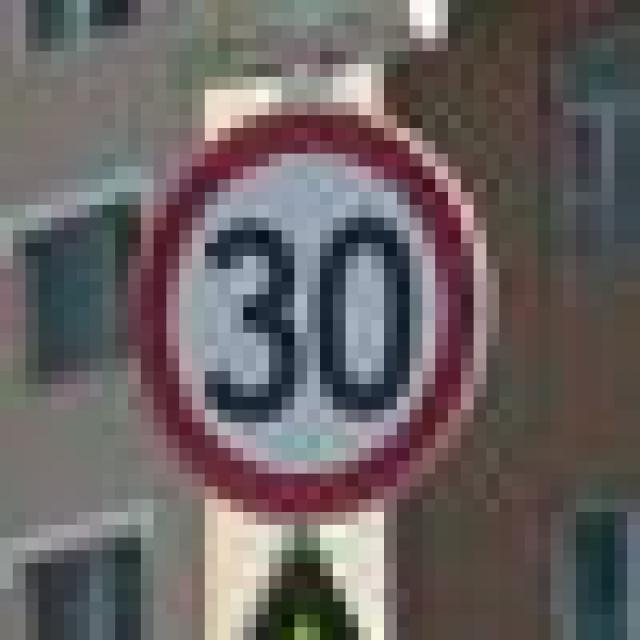SPEED_LIMIT_30: (102, 77, 486, 525)
